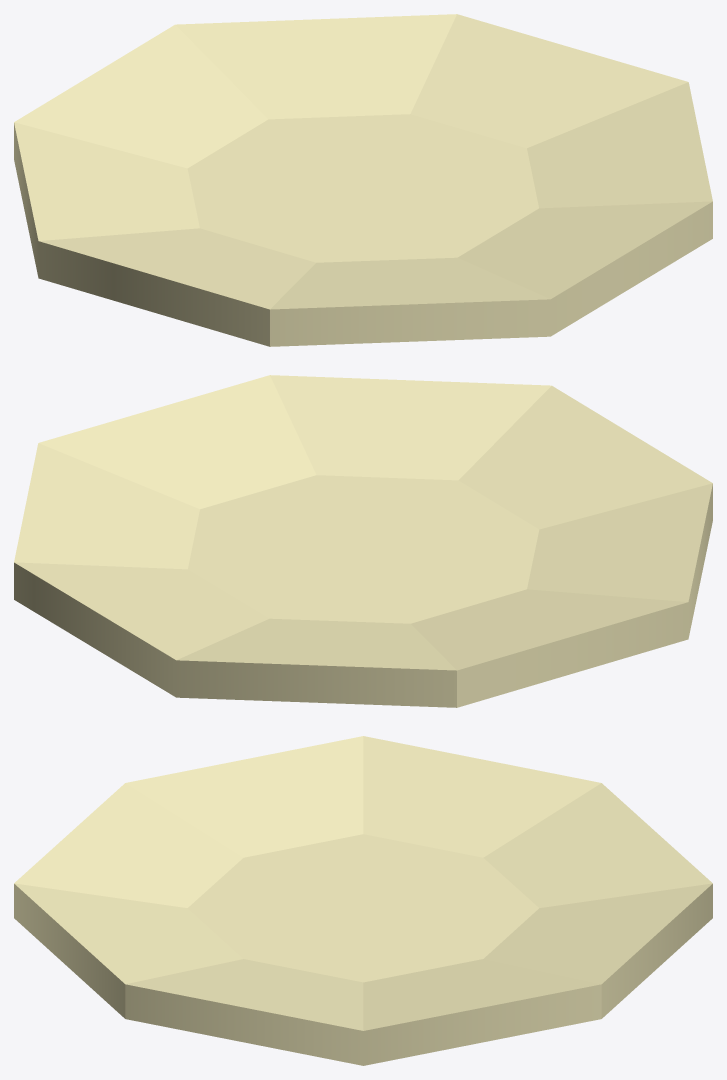
File: Itr_Obj_dish2_02.FBX
3 renders of one model, top to bottom at view 1: azimuth 30°, elevation 25°; view 2: azimuth 150°, elevation 25°; view 3: azimuth 270°, elevation 25°, orthographic. The views are drawn at different scales.
Visible parts, largest first — view 1: Itr_Obj_dish2_02; view 2: Itr_Obj_dish2_02; view 3: Itr_Obj_dish2_02.
Boxes of the visible parts, x1,y1,x2,y2 form: Itr_Obj_dish2_02: [14, 14, 712, 346]; Itr_Obj_dish2_02: [14, 375, 712, 707]; Itr_Obj_dish2_02: [14, 736, 712, 1065].
Size of the model in its own units: 9.99 by 0.9449 by 9.99.
